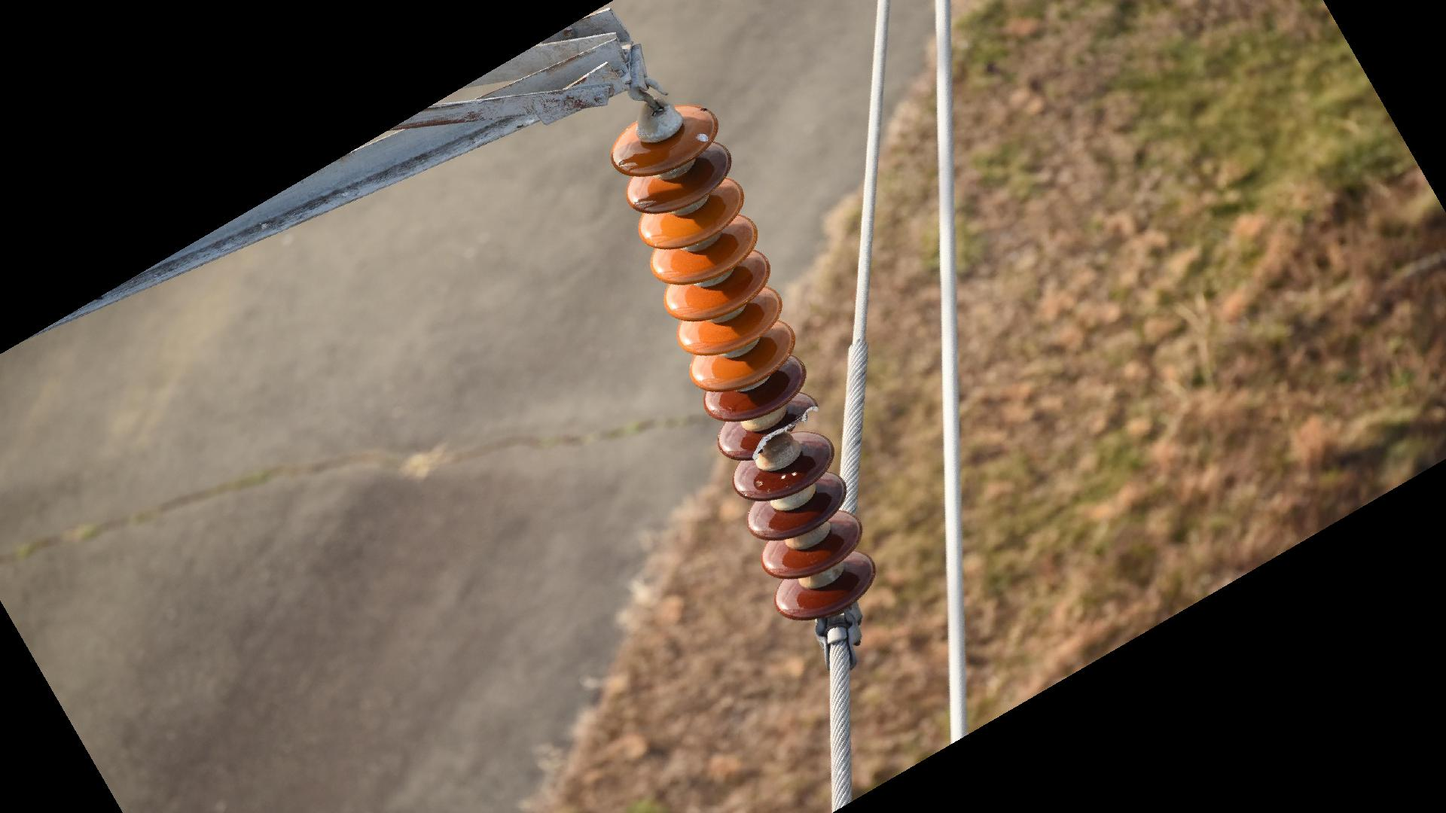insulator: (603, 99, 884, 628)
insulator_breakage: (745, 398, 822, 464)
